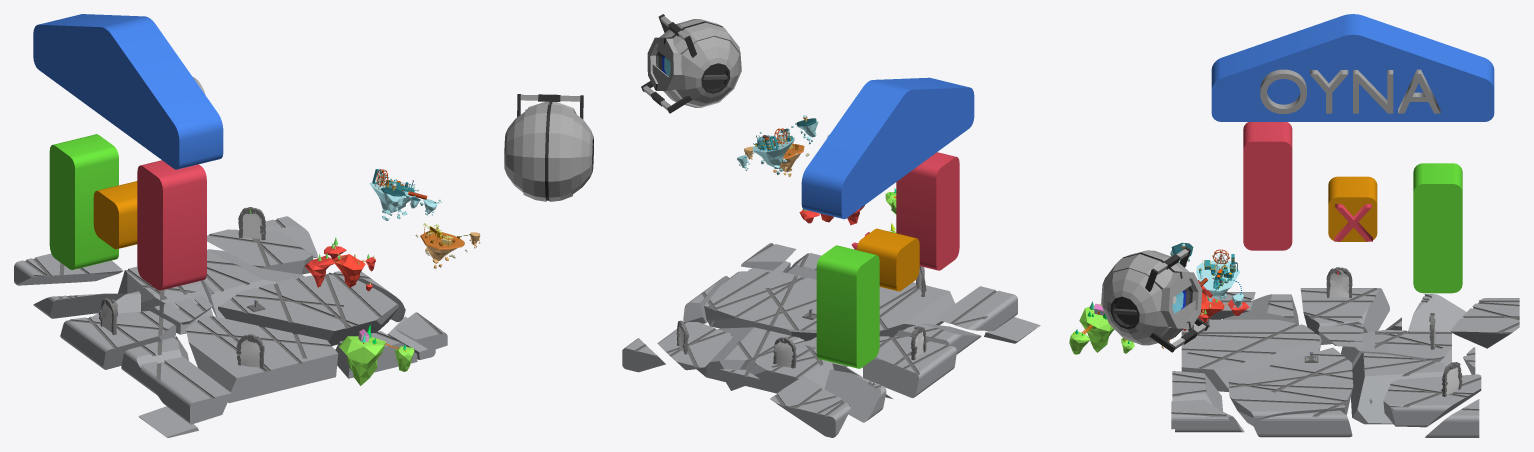
The model's file is AnaMenu_W_Anim.fbx.
3 renders of one model, left to right at view 1: azimuth 30°, elevation 25°; view 2: azimuth 150°, elevation 25°; view 3: azimuth 270°, elevation 25°, orthographic. The views are drawn at different scales.
Parts seen in each view (by area): view 1: Platform_cell, Evren_1, Evren_2, BIMO, Evren_4, Evren_3, Ada_Absurt, Ada_Parkur, Ada_Kirmizi, Ada_Wordl; view 2: Platform_cell, Evren_1, Evren_4, BIMO, Evren_2, Evren_3, Ada_Parkur, Ada_Wordl; view 3: Platform_cell, Evren_1, BIMO, Evren_4, Evren_2, Button_Oyna, Evren_3, Ada_Parkur, Ada_Absurt, Button_Cikis, Ada_Kirmizi.
Part boxes in pixels (<box>): Platform_cell: <box>14,216,447,437</box>; Evren_1: <box>33,14,223,169</box>; Evren_2: <box>137,160,206,290</box>; BIMO: <box>504,94,593,201</box>; Evren_4: <box>49,134,118,269</box>; Evren_3: <box>93,181,137,249</box>; Ada_Absurt: <box>339,324,414,385</box>; Ada_Parkur: <box>369,169,441,220</box>; Ada_Kirmizi: <box>305,237,375,291</box>; Ada_Wordl: <box>415,223,480,268</box>; Platform_cell: <box>622,243,1040,437</box>; Evren_1: <box>801,77,974,219</box>; Evren_4: <box>816,245,879,368</box>; BIMO: <box>641,14,741,113</box>; Evren_2: <box>896,152,959,270</box>; Evren_3: <box>856,228,919,291</box>; Ada_Parkur: <box>737,115,818,174</box>; Ada_Wordl: <box>744,135,809,177</box>; Platform_cell: <box>1171,288,1519,437</box>; Evren_1: <box>1211,14,1494,121</box>; BIMO: <box>1101,247,1208,352</box>; Evren_4: <box>1413,163,1462,293</box>; Evren_2: <box>1243,122,1292,250</box>; Button_Oyna: <box>1260,69,1440,114</box>; Evren_3: <box>1328,176,1377,241</box>; Ada_Parkur: <box>1170,242,1243,307</box>; Ada_Absurt: <box>1069,301,1134,354</box>; Button_Cikis: <box>1334,204,1372,241</box>; Ada_Kirmizi: <box>1183,280,1249,330</box>.
Size of the model in its own units: 21785 by 15649 by 20373.
